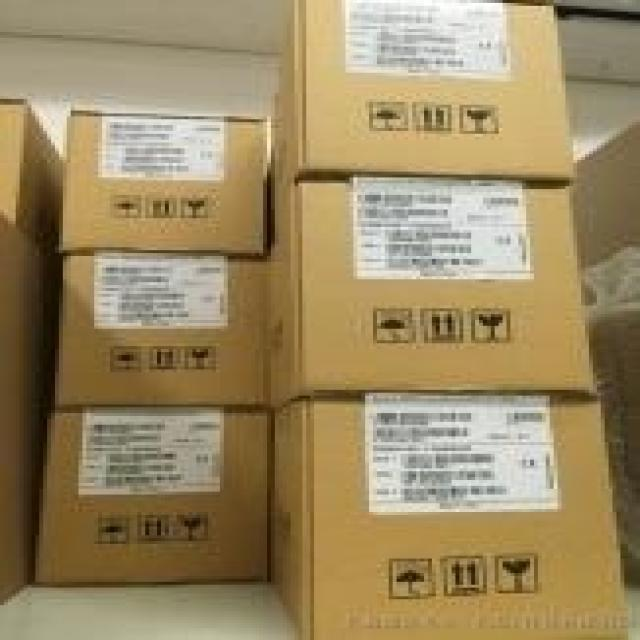box: (266, 396, 632, 636), (265, 181, 600, 407), (271, 4, 573, 252), (34, 402, 275, 585), (51, 255, 273, 406), (58, 112, 270, 254), (577, 125, 636, 588), (0, 214, 58, 599), (0, 98, 70, 252)
